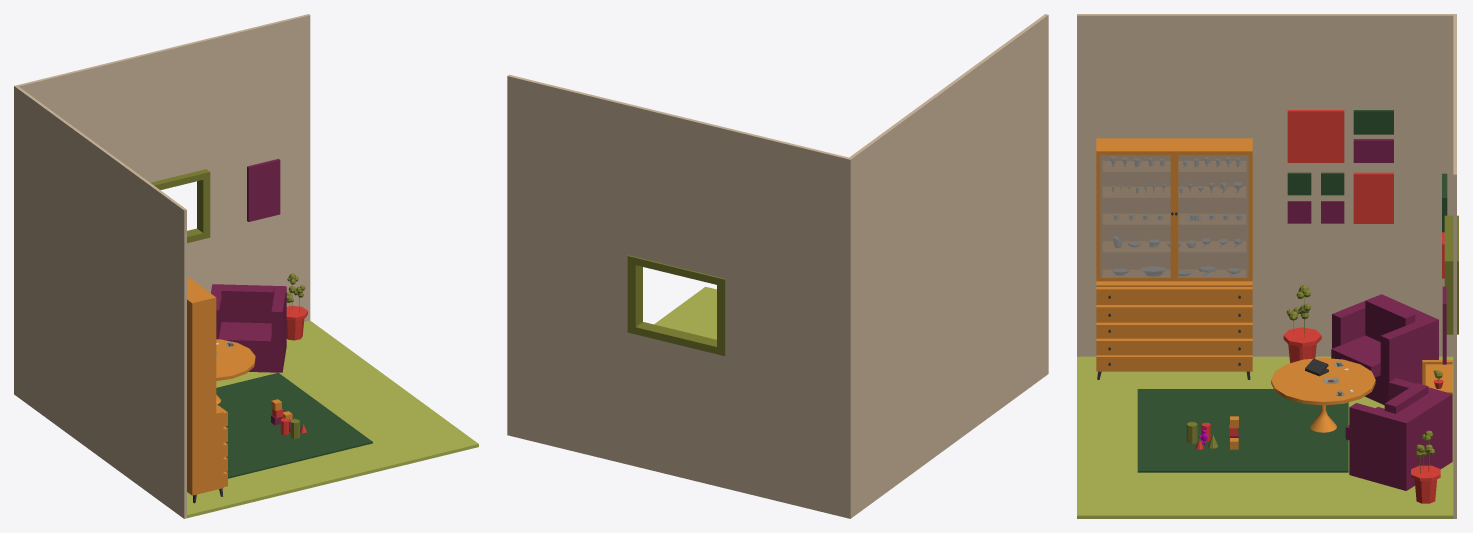
File: Room.fbx
3 views of the same model, side by side, from view 1: azimuth 30°, elevation 25°; view 2: azimuth 150°, elevation 25°; view 3: azimuth 270°, elevation 25° (orthographic). The views are drawn at different scales.
Visible parts, largest first — view 1: Chair_3; view 2: Chair_3; view 3: Chair_3.
Boxes of the visible parts, x1=… form: Chair_3: x1=14, y1=14, x2=478, y2=518; Chair_3: x1=507, y1=14, x2=1048, y2=518; Chair_3: x1=1077, y1=14, x2=1458, y2=518.
Bounding box in the file's own units: 101 × 101 × 101.
